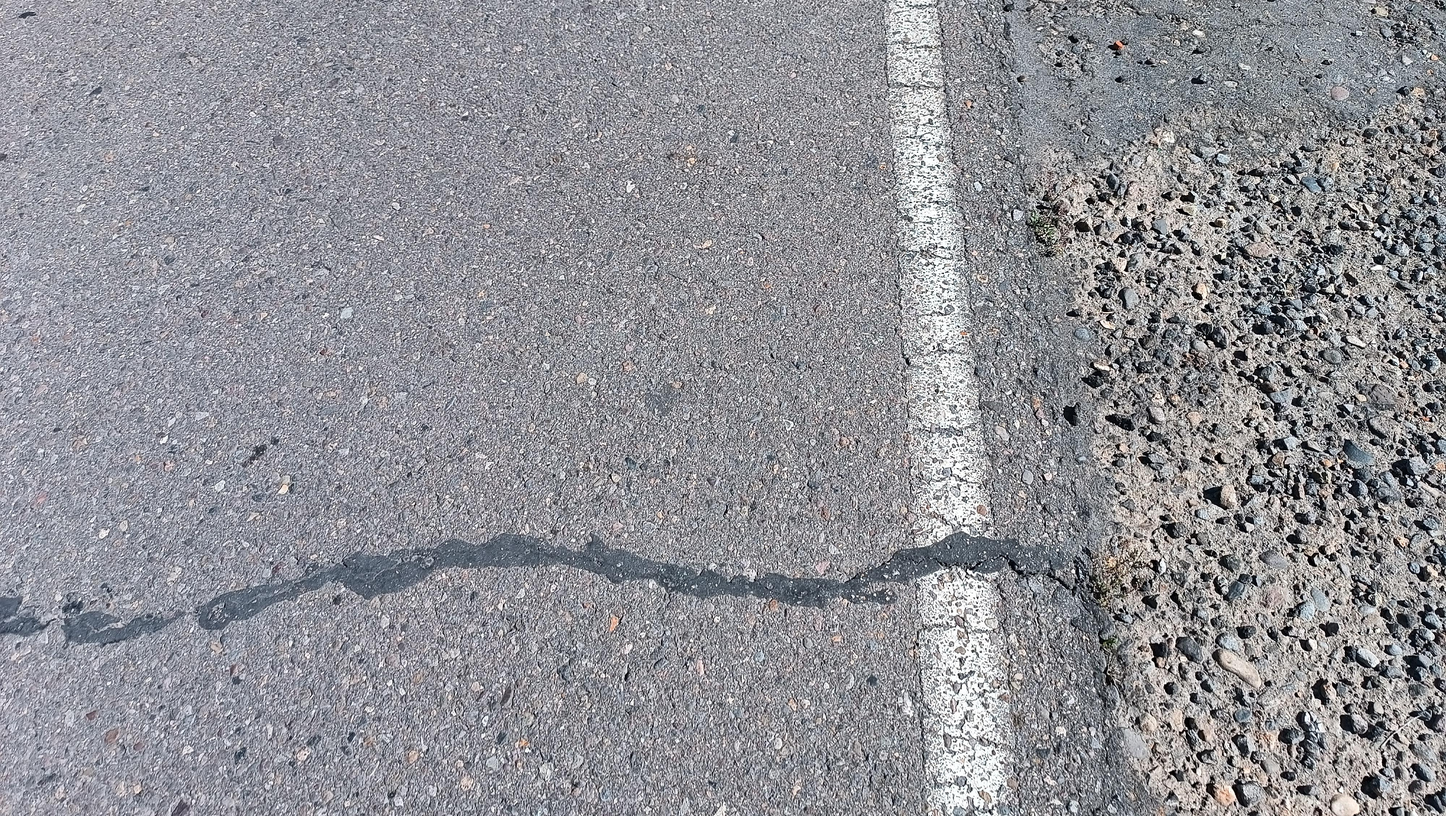GRIETA: (753, 552, 1078, 599)
